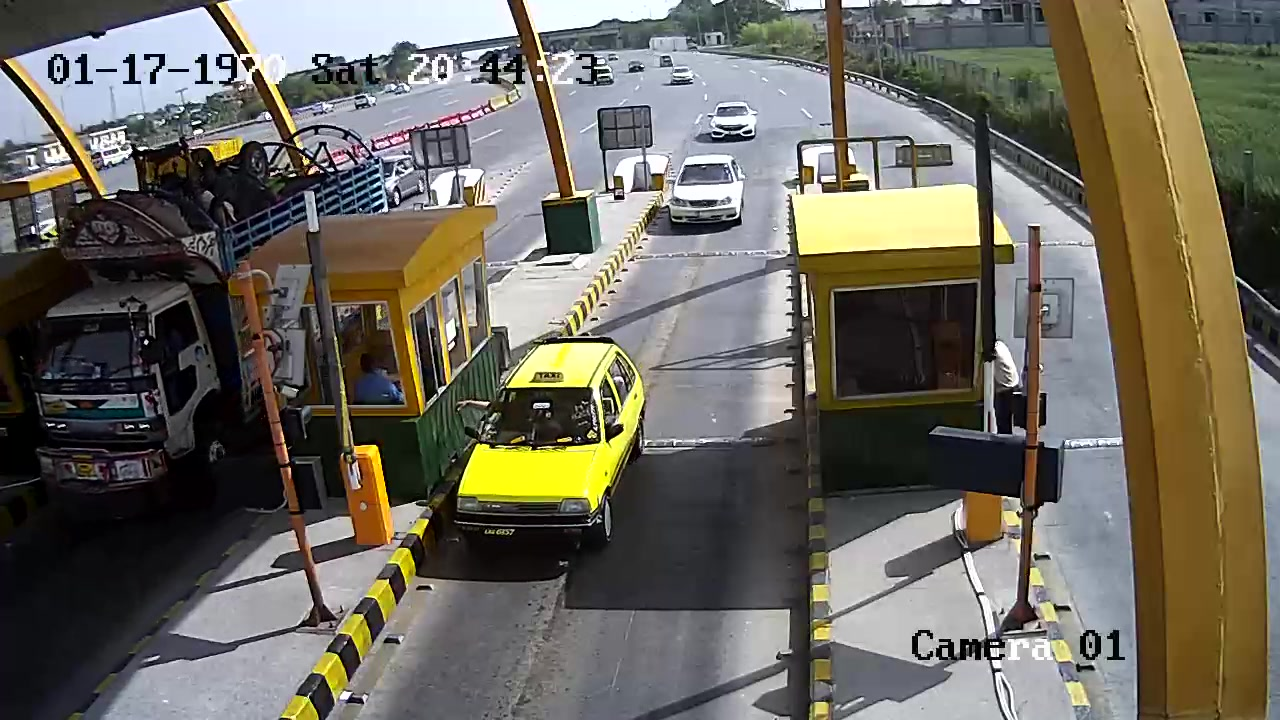F1: (448, 329, 665, 550)
